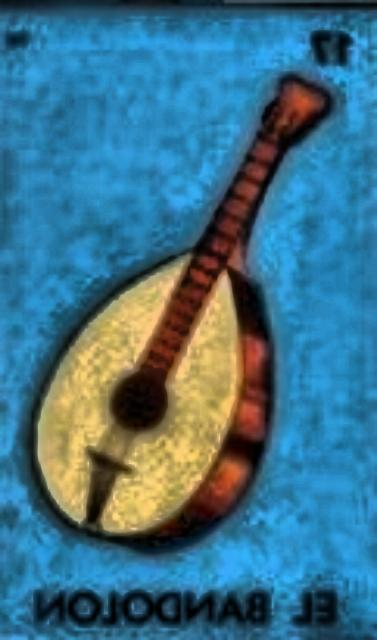El Bandolon: (0, 12, 377, 639)
